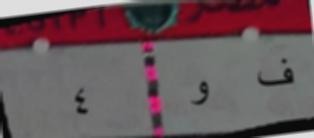4: (71, 83, 93, 119)
faa: (249, 55, 297, 90)
waw: (186, 79, 213, 112)
